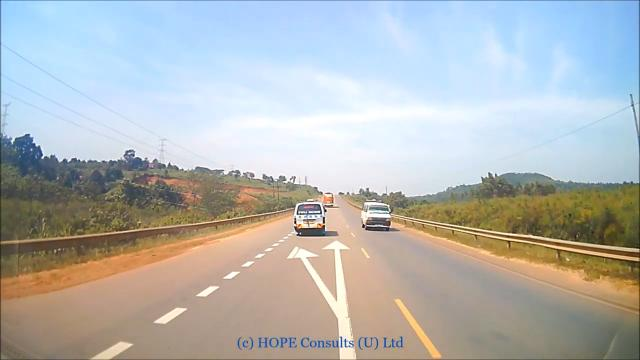bus: (322, 192, 335, 207)
car: (360, 196, 393, 231)
van: (287, 196, 329, 233)
